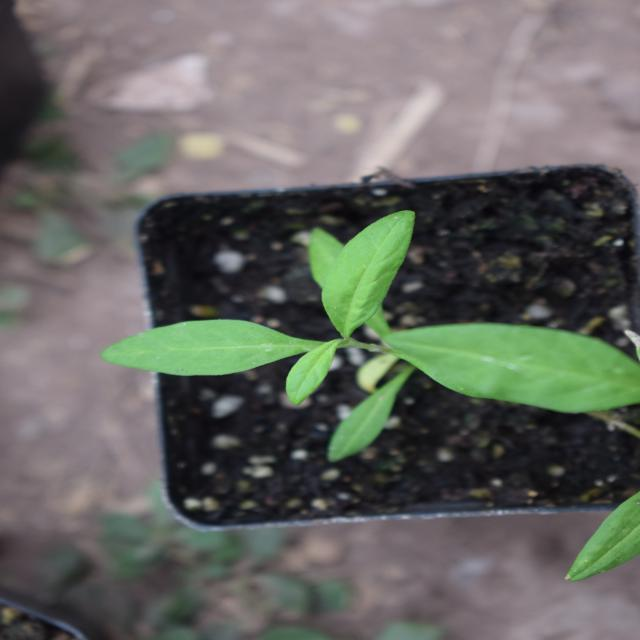white_smart_weed: (212, 113, 436, 608)
